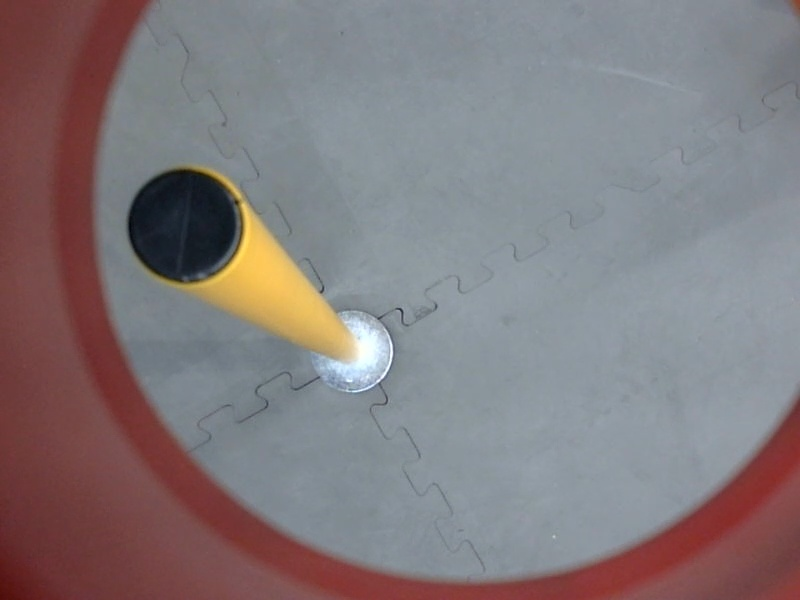tip: (120, 151, 256, 295)
